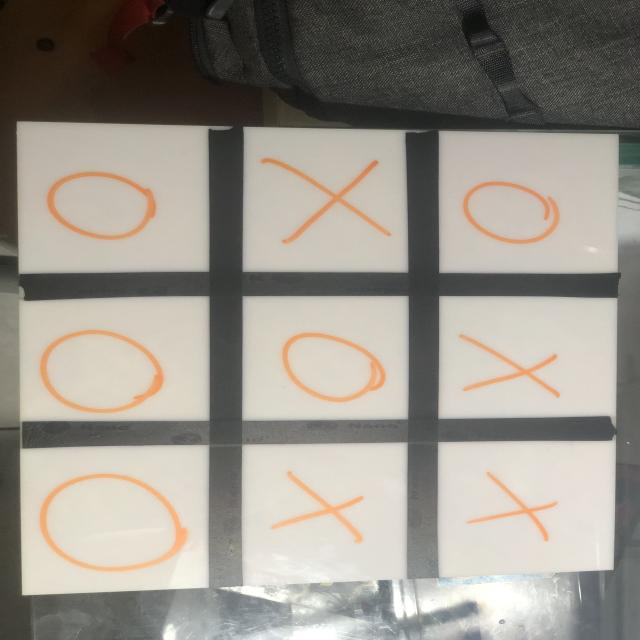o: (38, 471, 196, 578), (37, 329, 174, 414), (48, 164, 164, 245), (284, 327, 385, 408), (466, 175, 562, 253)
table: (5, 120, 625, 605)
x: (259, 150, 386, 246), (269, 473, 378, 554), (457, 328, 563, 399), (469, 469, 564, 544)
